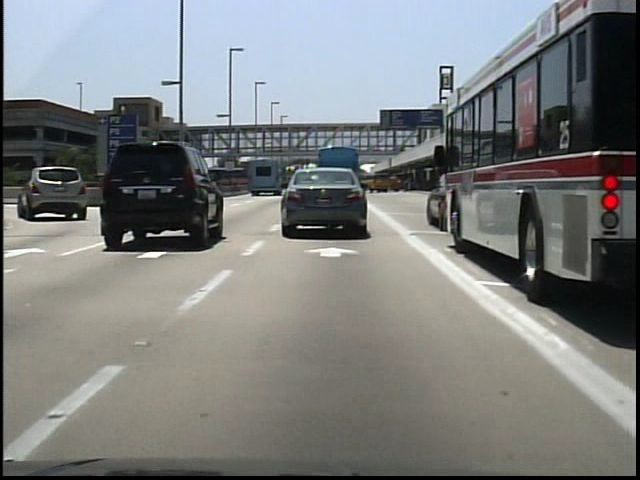person: (391, 136, 404, 158), (363, 136, 376, 156)
